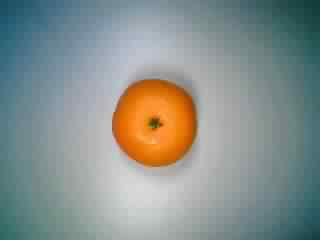orange: (109, 69, 204, 171)
